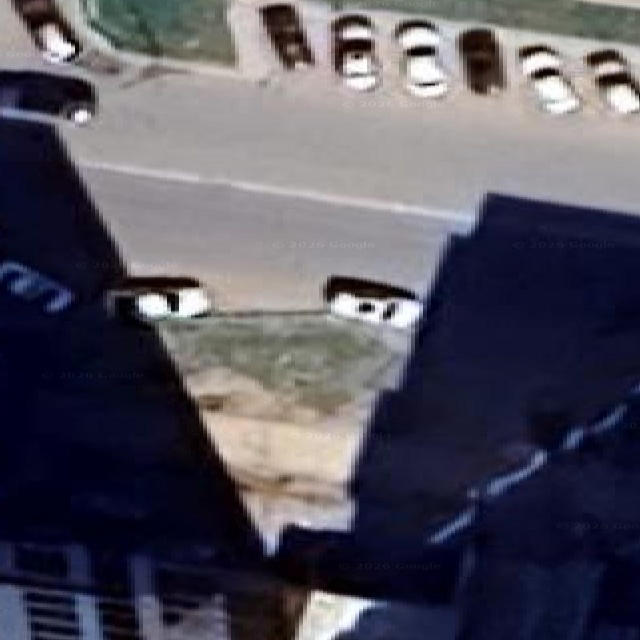car: (0, 70, 96, 123), (324, 276, 420, 327), (105, 276, 211, 322), (517, 44, 580, 114), (12, 0, 80, 63), (395, 20, 447, 96), (0, 260, 74, 313), (332, 15, 380, 91), (584, 48, 639, 114), (260, 3, 312, 68), (457, 27, 504, 94), (527, 384, 573, 449), (33, 22, 77, 63), (74, 48, 123, 75), (131, 292, 169, 319), (143, 68, 156, 76), (123, 83, 125, 84)
